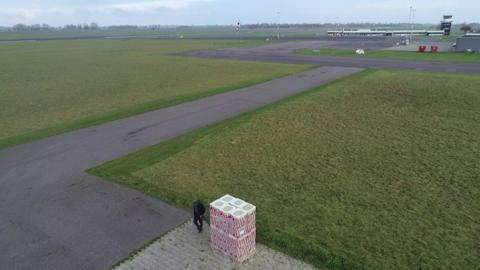RockwoolPallet: (208, 193, 258, 263)
